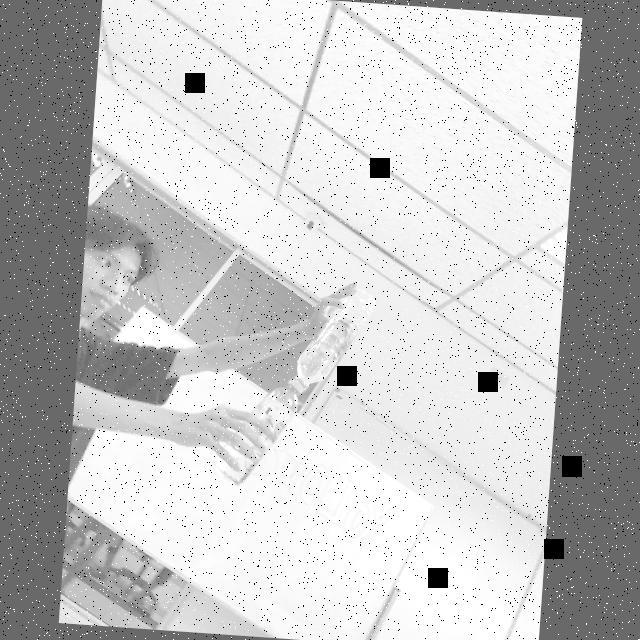plastic_bottle: (208, 376, 304, 492), (292, 282, 378, 394)
plastic_bottle_cap: (292, 374, 308, 390), (286, 378, 303, 393)
